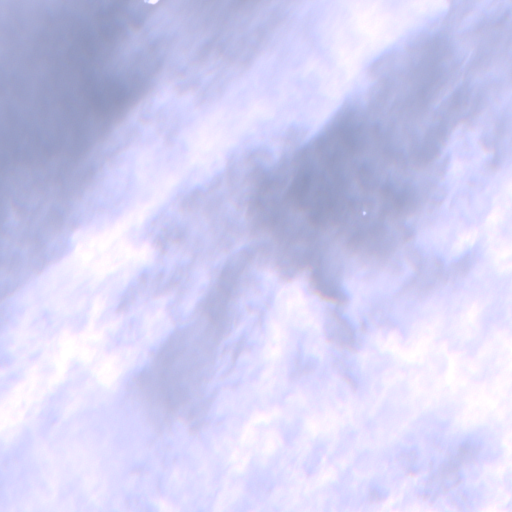Iceberg: (363, 212, 365, 214)
